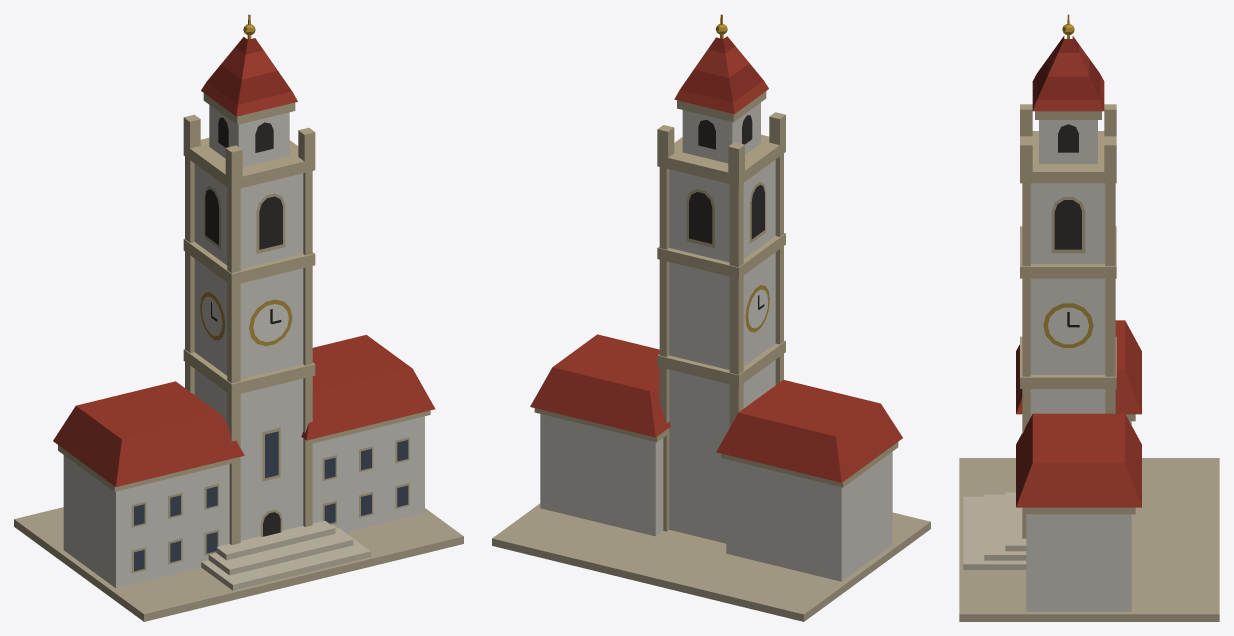
The model's file is tourHorloge.glb.
The picture shows the model from 3 angles, left to right: view 1: azimuth 30°, elevation 25°; view 2: azimuth 150°, elevation 25°; view 3: azimuth 270°, elevation 25°; orthographic projection. The views are drawn at different scales.
Parts seen in each view (by area): view 1: tourHorloge; view 2: tourHorloge; view 3: tourHorloge.
Part boxes in pixels (<box>): tourHorloge: <box>14,14,463,621</box>; tourHorloge: <box>492,14,930,621</box>; tourHorloge: <box>959,14,1219,621</box>.
Size of the model in its own units: 1.76 by 2.78 by 1.24.
